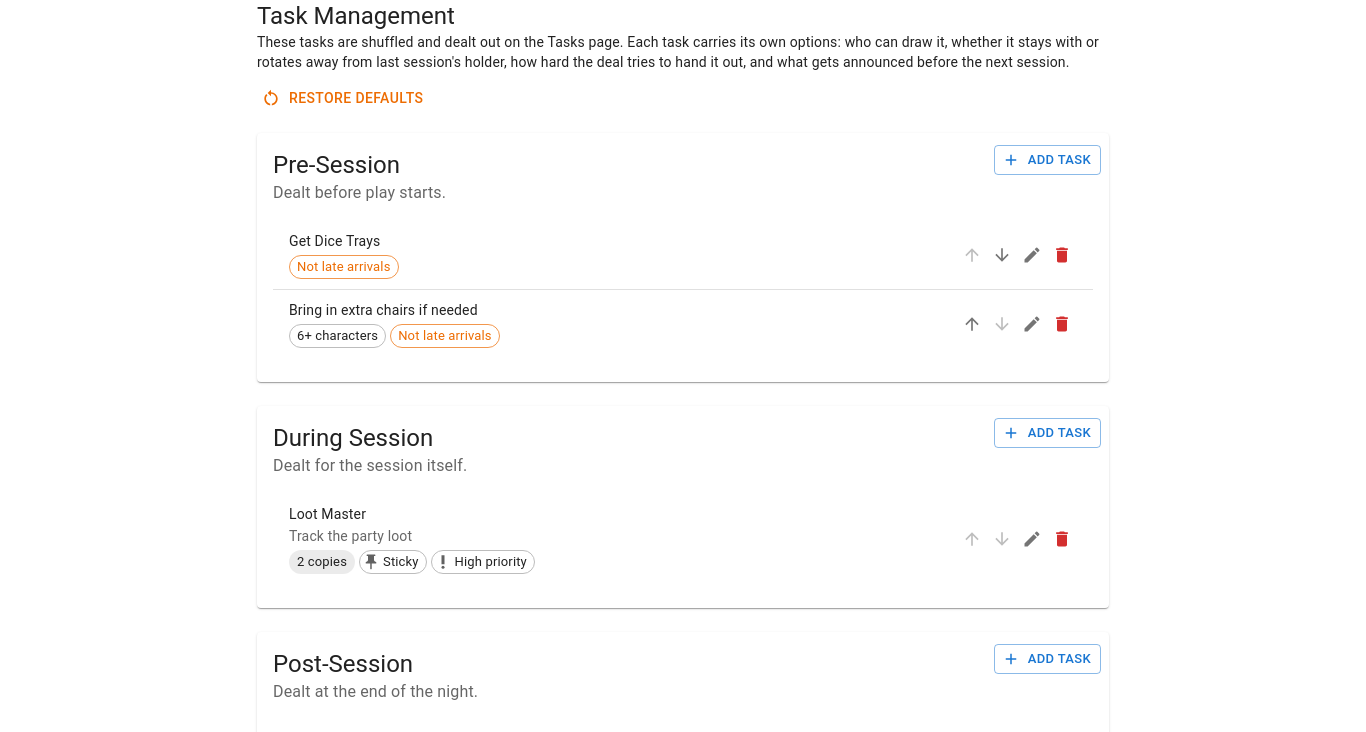
Test: TaskManagement › disables the rotate option while the task is sticky, so both can never be picked
This screenshot has width=1366, height=732.
Expected: the text "Get Dice Trays" is shown, [289, 233, 380, 249]
Click the button named "edit loot master" at (1032, 539), box [1017, 524, 1047, 554]
(page scrolled)
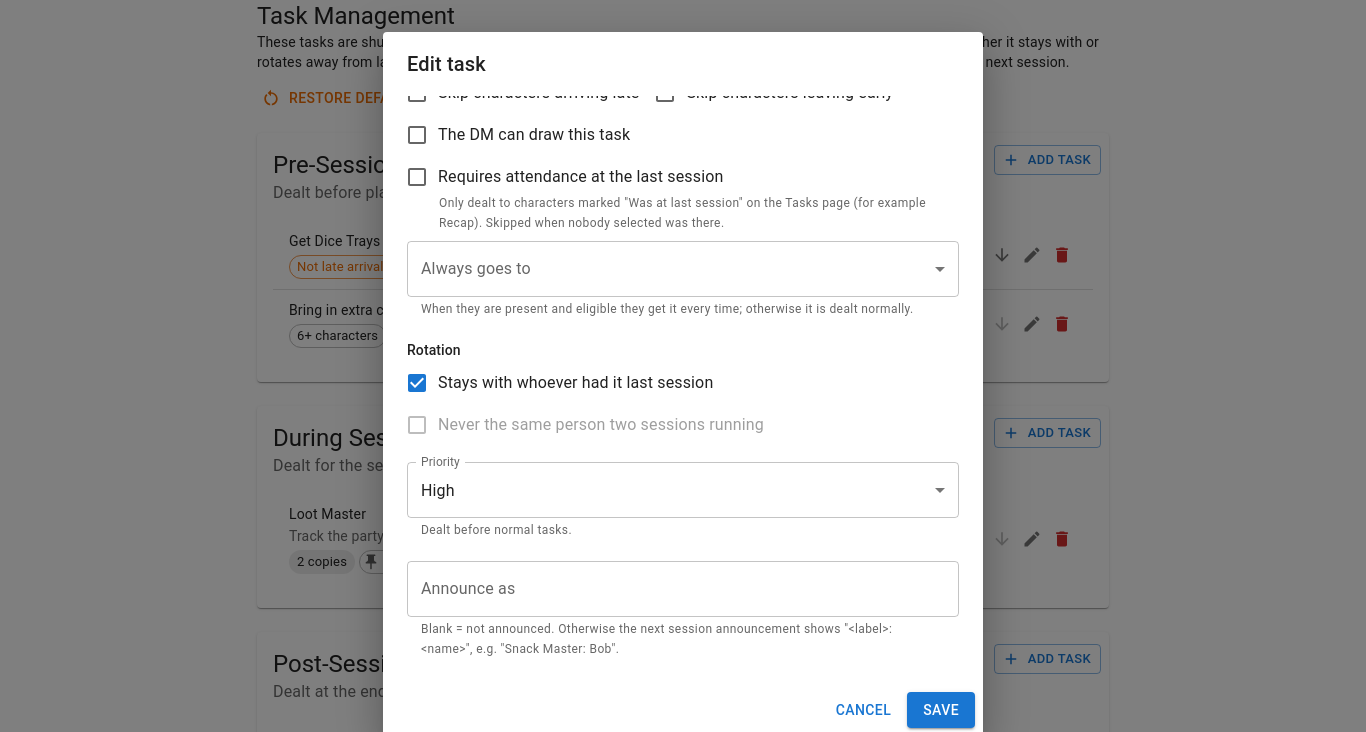
Now the checkbox labelled "Stays with whoever had it last session" is checked, box [405, 371, 713, 395]
Now the checkbox labelled "Never the same person two sessions running" is disabled, box [405, 413, 764, 437]
